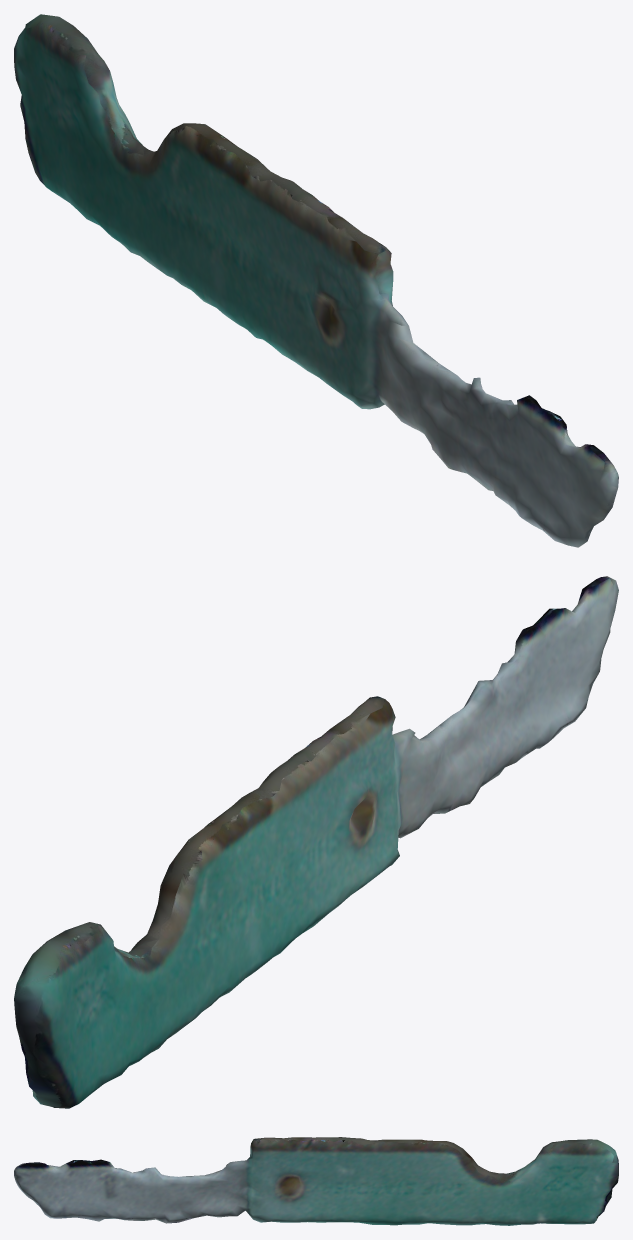
File: scan_align.obj
The picture shows the model from 3 angles, top to bottom: view 1: azimuth 30°, elevation 25°; view 2: azimuth 150°, elevation 25°; view 3: azimuth 270°, elevation 25°; orthographic projection. The views are drawn at different scales.
Size of the model in its own units: 0.00431 by 0.0197 by 0.1196.
Materials: 1 (1 with a texture image).
